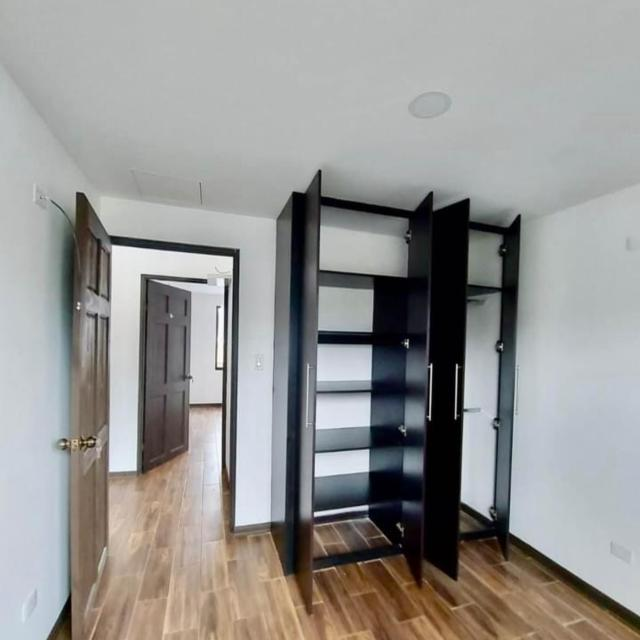OpenDoor: (94, 226, 250, 556), (142, 271, 227, 487)
